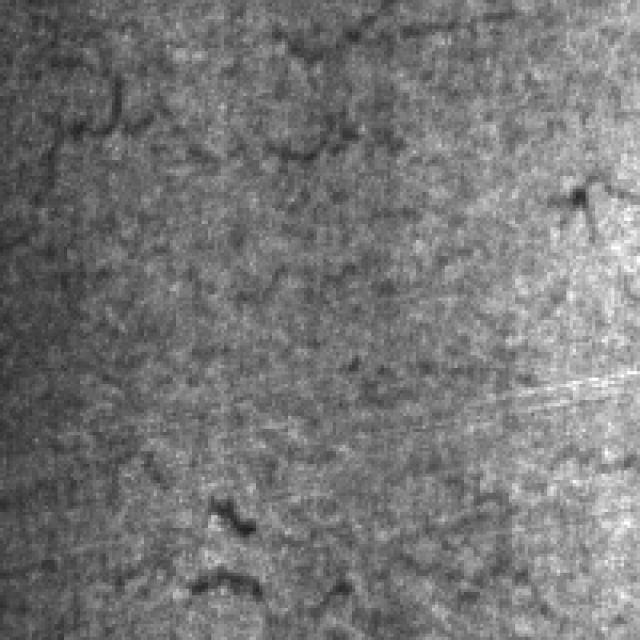crazing: (7, 205, 570, 387), (148, 461, 582, 634), (116, 0, 518, 160), (3, 7, 166, 195)
